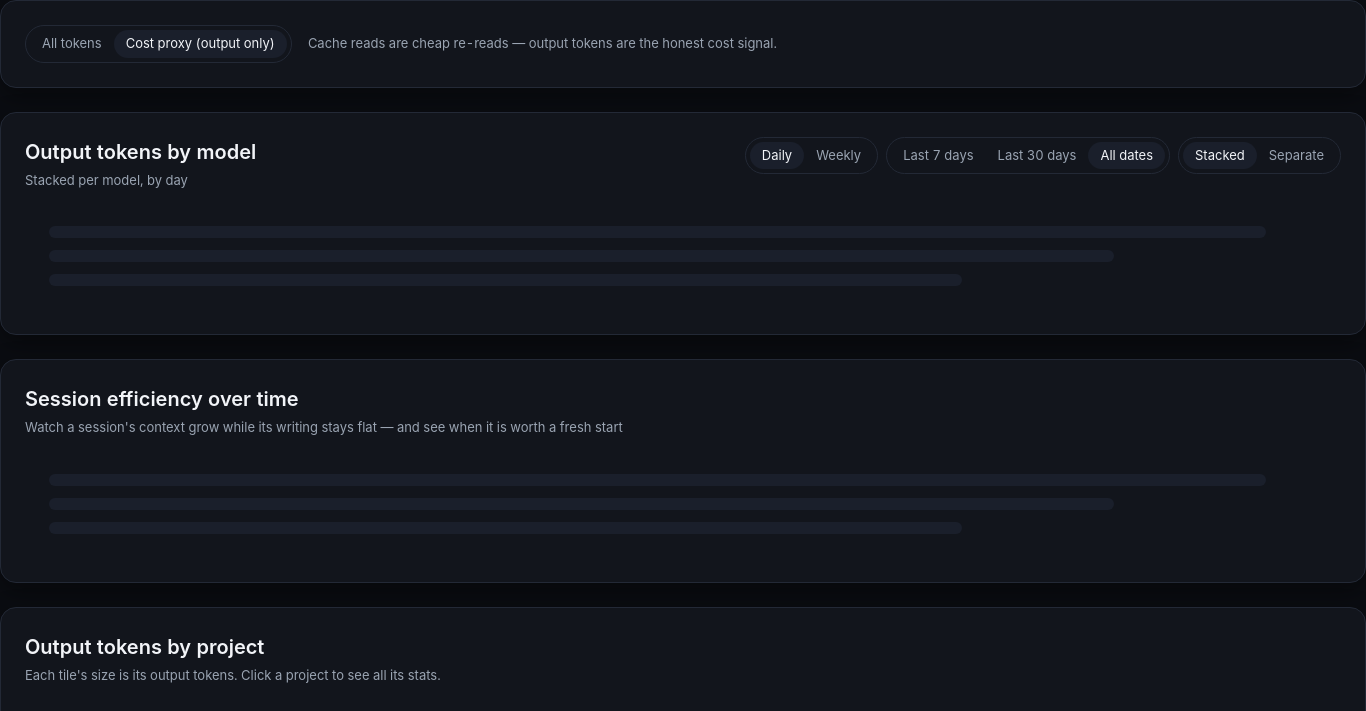
§6.4 Tokens & Cost — states and the standing note › carries the standing cache-read note whichever way the toggle is set
The width and height of the screenshot is (1366, 711).
Expected: the text "Cache reads are cheap re-reads — output tokens are the honest cost signal." is shown, x1=308 y1=34 x2=777 y2=54
What coordinates should you click on to do the following:
click the radio button with test id "token-mode-toggle-all"
I would click on:
 (72, 44)
Its box is x1=30 y1=30 x2=114 y2=58.
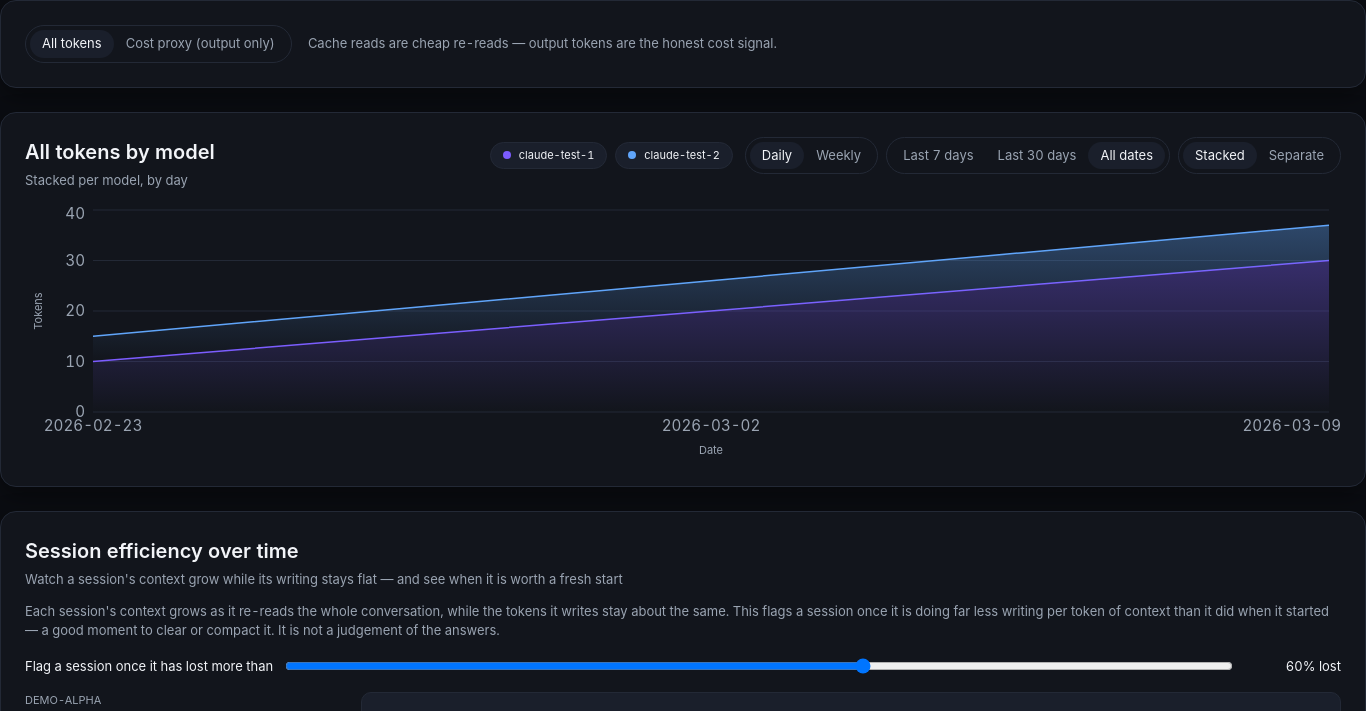
Expected: the text "Cache reads are cheap re-reads — output tokens are the honest cost signal." is shown, x1=308 y1=34 x2=777 y2=54
Expected: the heading "All tokens by model" is shown, x1=25 y1=136 x2=215 y2=166
